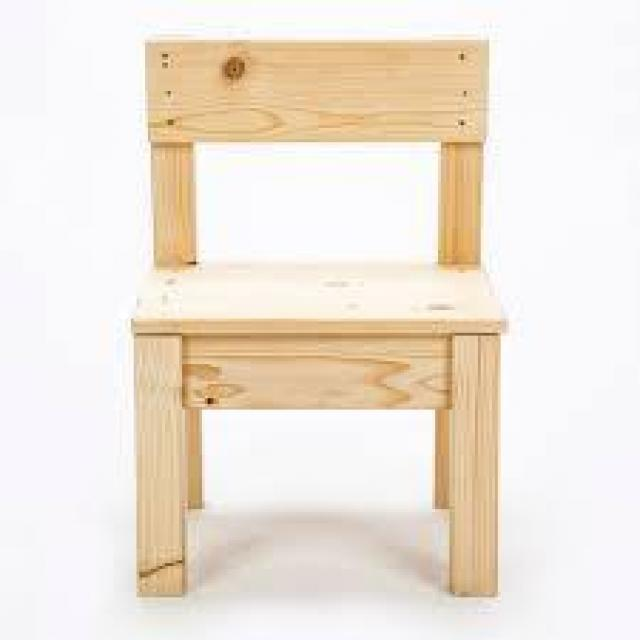chair: (76, 10, 550, 602)
